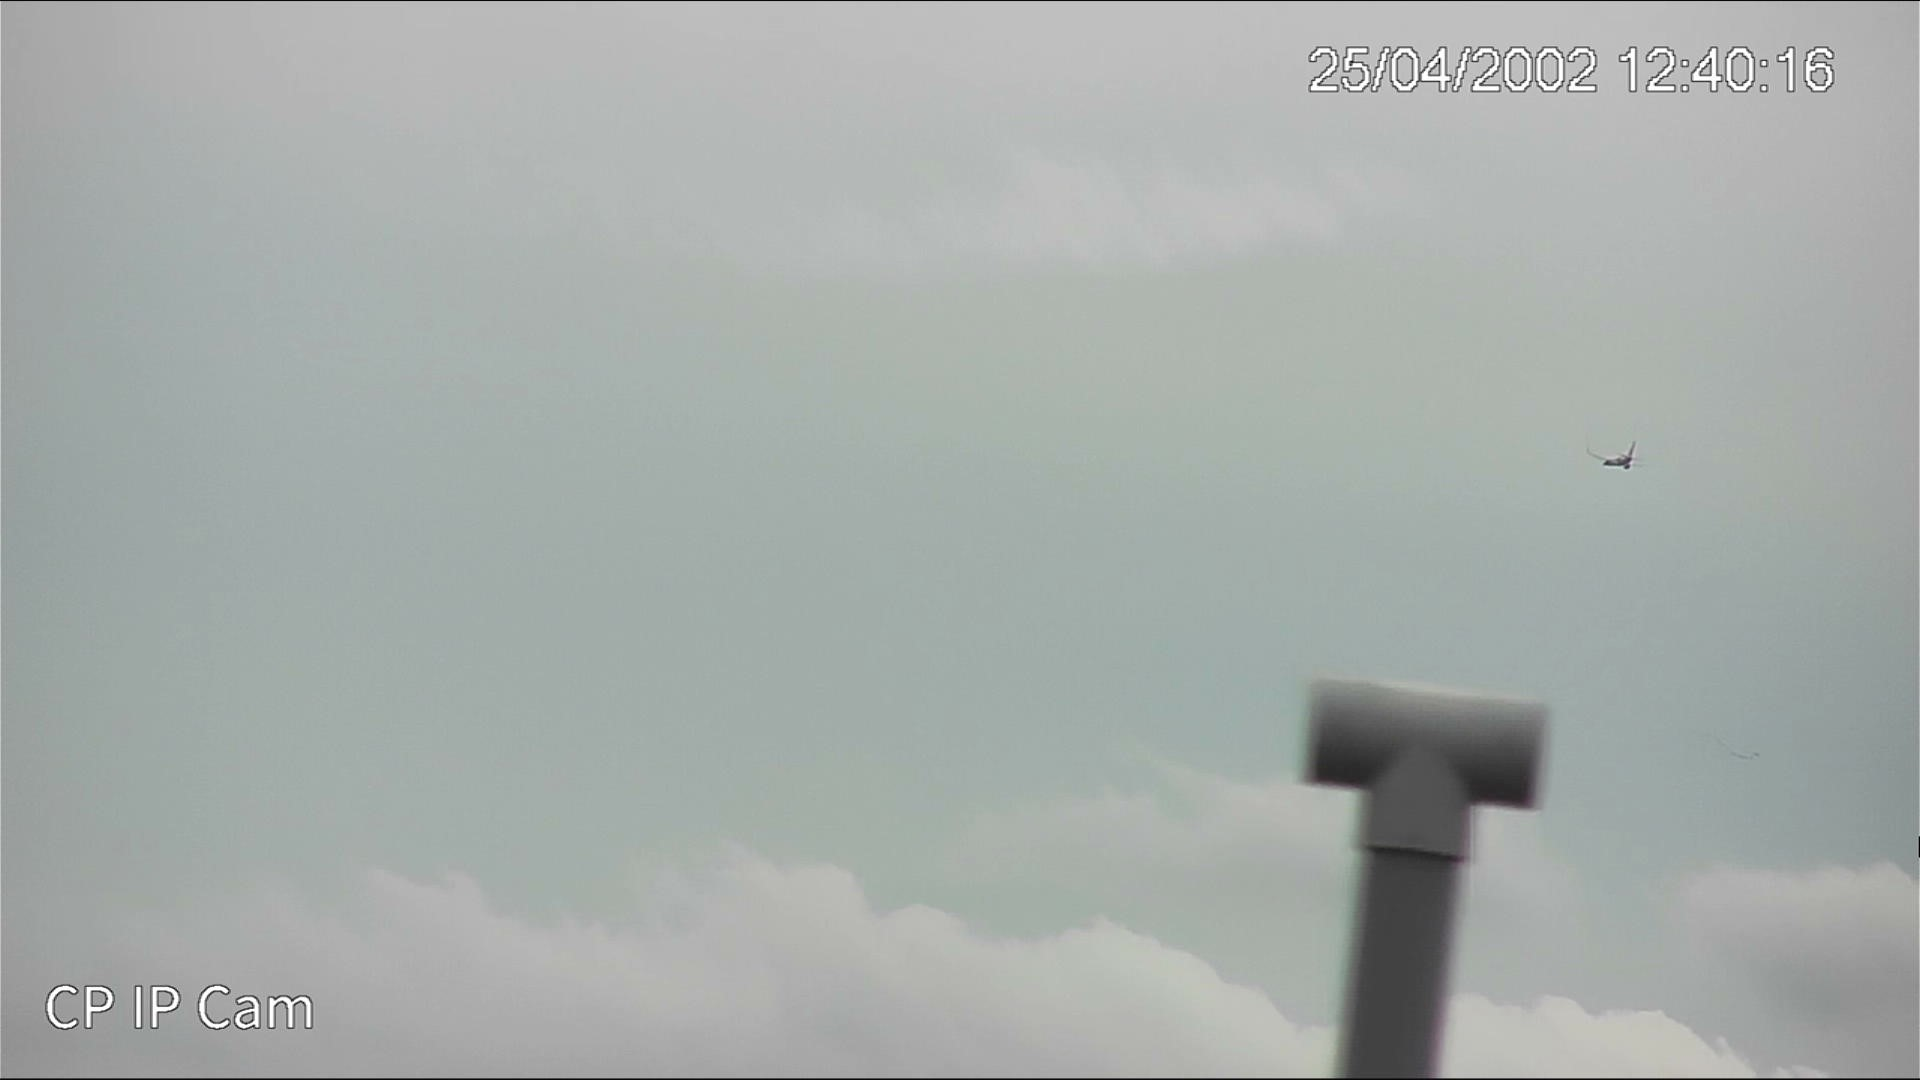SU_30: (1600, 450, 1638, 473)
